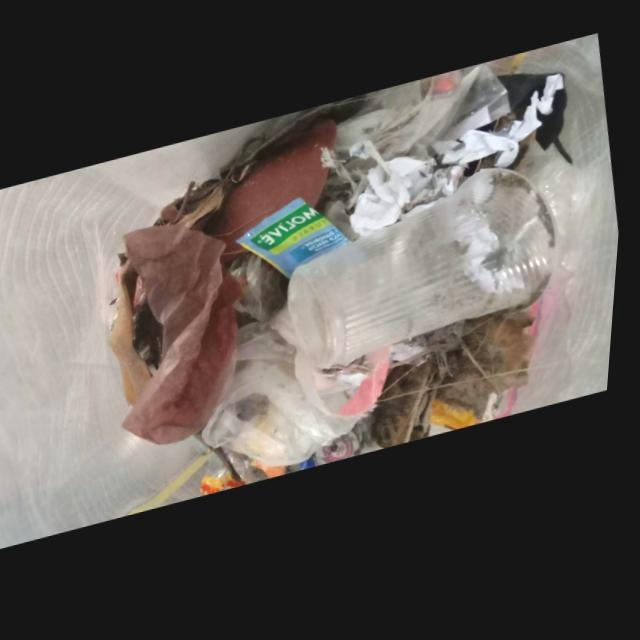paper: (434, 101, 544, 178), (353, 158, 443, 243)
plastic_bag: (208, 326, 374, 473)
plastic_container: (293, 174, 564, 376)
plastic_sachet: (239, 203, 357, 282)
